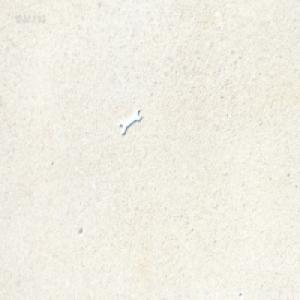Wrench: (117, 108, 140, 136)
